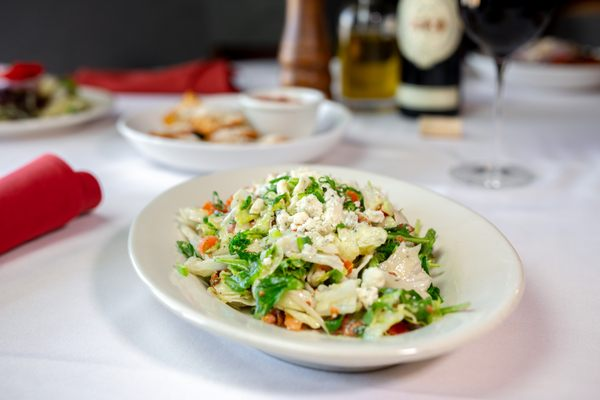sushi: (127, 165, 532, 374), (111, 85, 350, 172), (239, 85, 324, 137)
